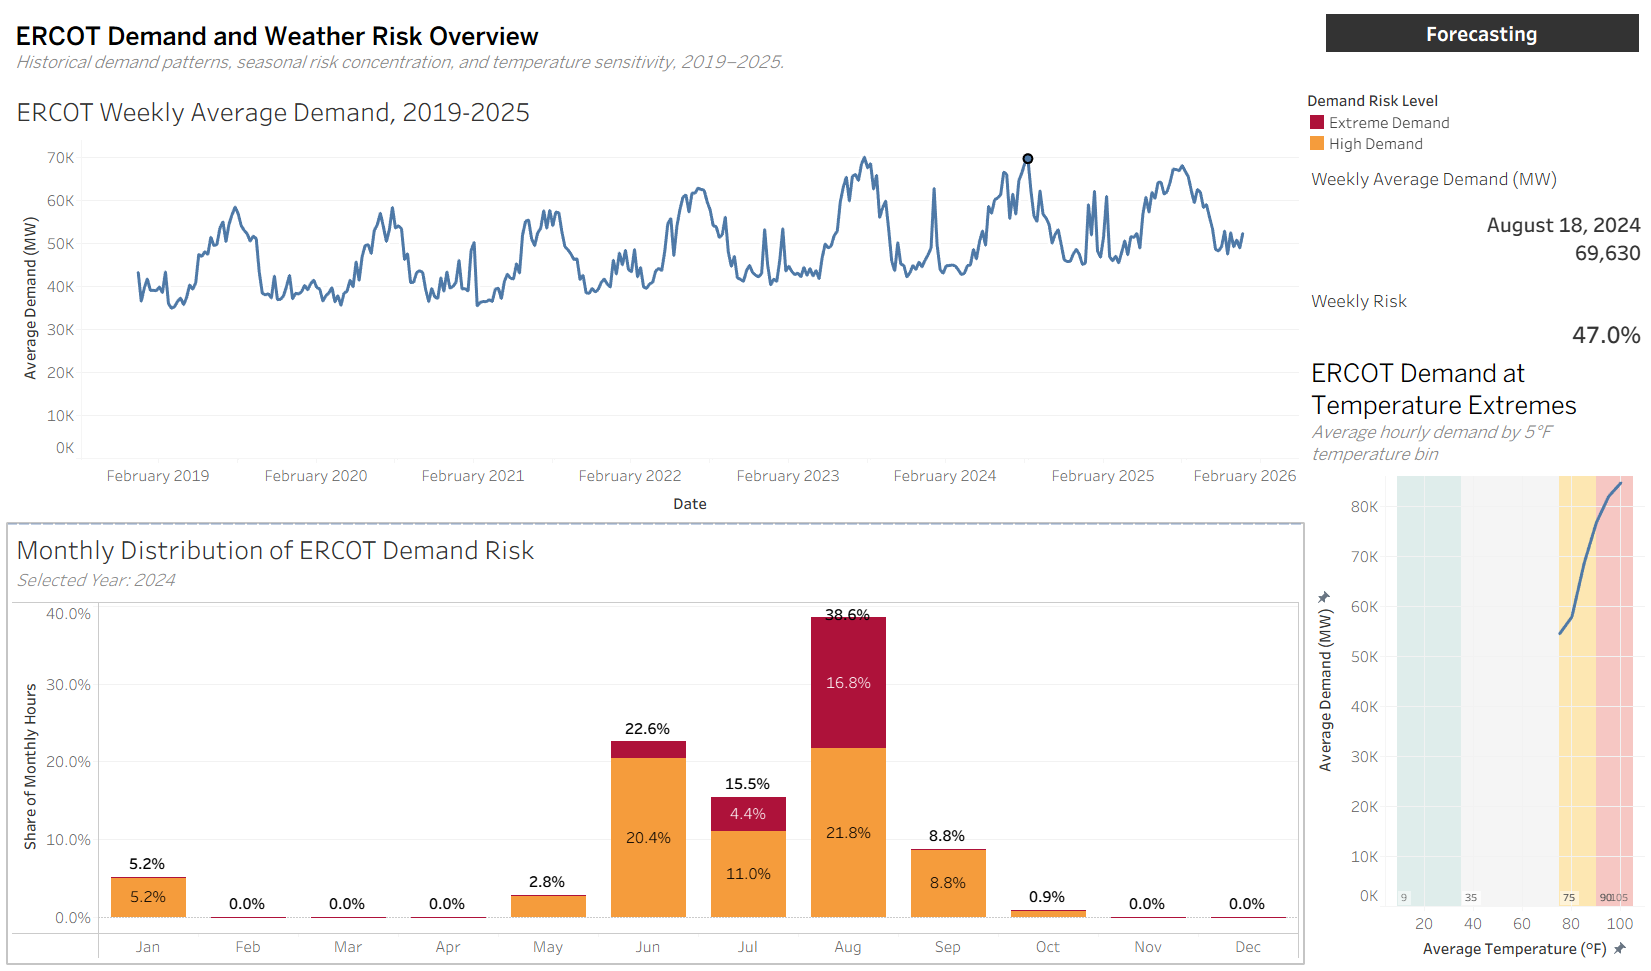

What the dashboard file says about the page in this screenshot:
{"tool":"tableau","page":{"name":"ERCOT Demand and Weather Risk Overview","canvas":[1000,800],"ordinal":0},"visuals":[{"type":"text","box":[8,8,984,64]},{"type":"dashboard-object","box":[798,8,194,38]},{"type":"worksheet","title":"Weekly Demand","mark":"Automatic","rows":["value"],"cols":["period_utc_tableau"],"box":[8,72,678,360]},{"type":"legend","title":"Monthly Distribution","param":"[federated.0t6zlsc1clk5os1cc5xin18zl83z].[:Measure Names]","box":[686,72,306,66]},{"type":"worksheet","title":"Weekly Demand KPI","mark":"Automatic","box":[686,138,306,90]},{"type":"worksheet","title":"Weekly Risk KPI","mark":"Automatic","box":[686,228,306,63]},{"type":"worksheet","title":"Temperature Extremes","mark":"Line","rows":["value"],"cols":["Calculation_0727352960389136"],"box":[686,291,306,501]},{"type":"worksheet","title":"Monthly Distribution","mark":"Bar","rows":["Calculation_0727352934006798"],"cols":["period_utc_tableau"],"box":[8,432,678,360]}]}

Visuals, with their boxes on the page's 1000x800 design canvas (x1, y1, x2, y2). These are canvas units, not pixel positions in the 1651x971 screenshot, which may show the page scaled, cropped or inside an application window:
text: pyautogui.locateOnScreen(8, 8, 992, 72)
dashboard-object: pyautogui.locateOnScreen(798, 8, 992, 46)
"Weekly Demand" worksheet: pyautogui.locateOnScreen(8, 72, 686, 432)
"Monthly Distribution" legend: pyautogui.locateOnScreen(686, 72, 992, 138)
"Weekly Demand KPI" worksheet: pyautogui.locateOnScreen(686, 138, 992, 228)
"Weekly Risk KPI" worksheet: pyautogui.locateOnScreen(686, 228, 992, 291)
"Temperature Extremes" worksheet (Line marks): pyautogui.locateOnScreen(686, 291, 992, 792)
"Monthly Distribution" worksheet (Bar marks): pyautogui.locateOnScreen(8, 432, 686, 792)
